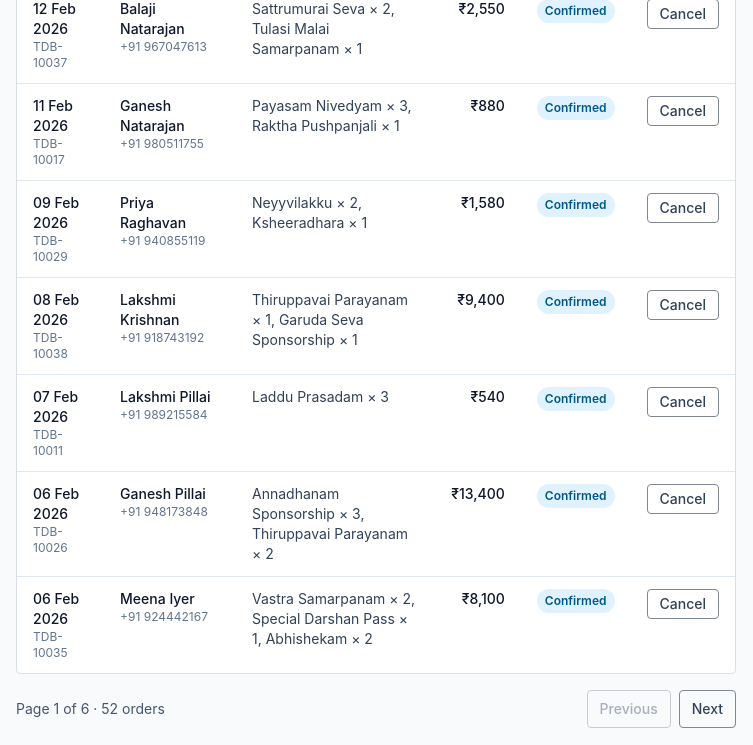
it: Orders screen › moves between pages
This screenshot has width=753, height=745.
(page scrolled)
Check: the button "Previous" is disabled, box [587,690,671,728]
Click the button "Next" at (707, 709), box [679,690,736,728]
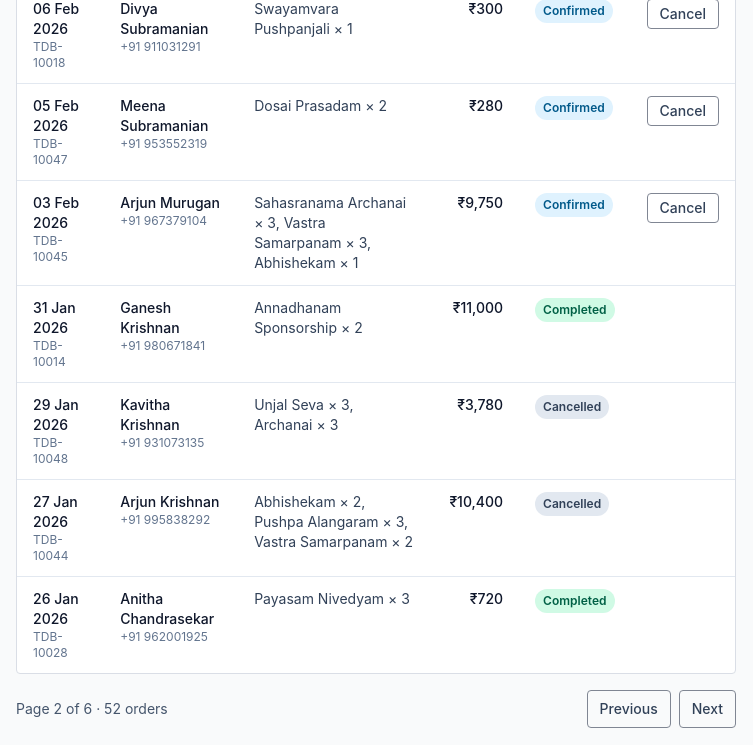
Check: the text "Page 2 of 6 · 52 orders" is shown, box [16,699,168,719]
Click the button "Previous" at (629, 709), box [587,690,671,728]
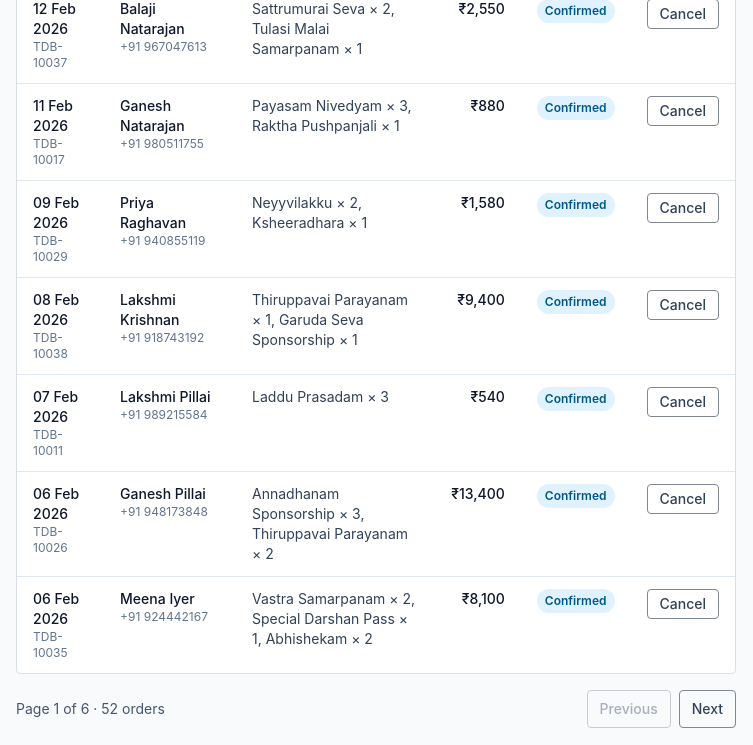
Check: the text "Page 1 of 6 · 52 orders" is shown, box [16,699,165,719]
